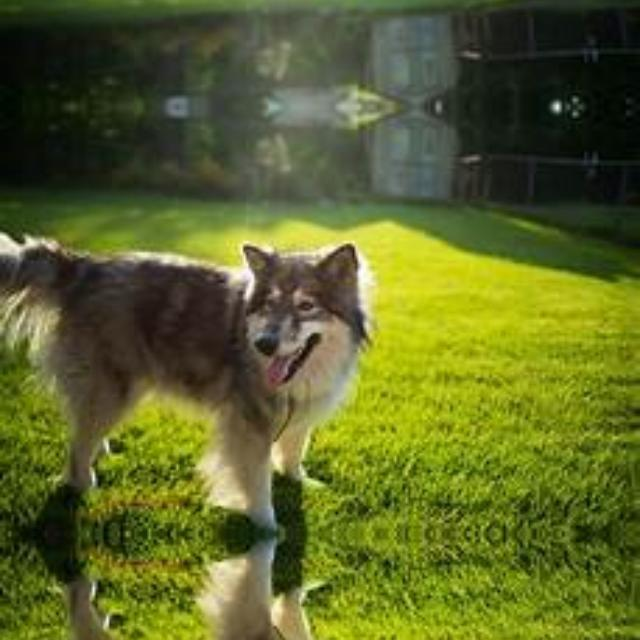dog: (8, 201, 382, 524), (8, 544, 382, 640), (8, 0, 382, 11)
